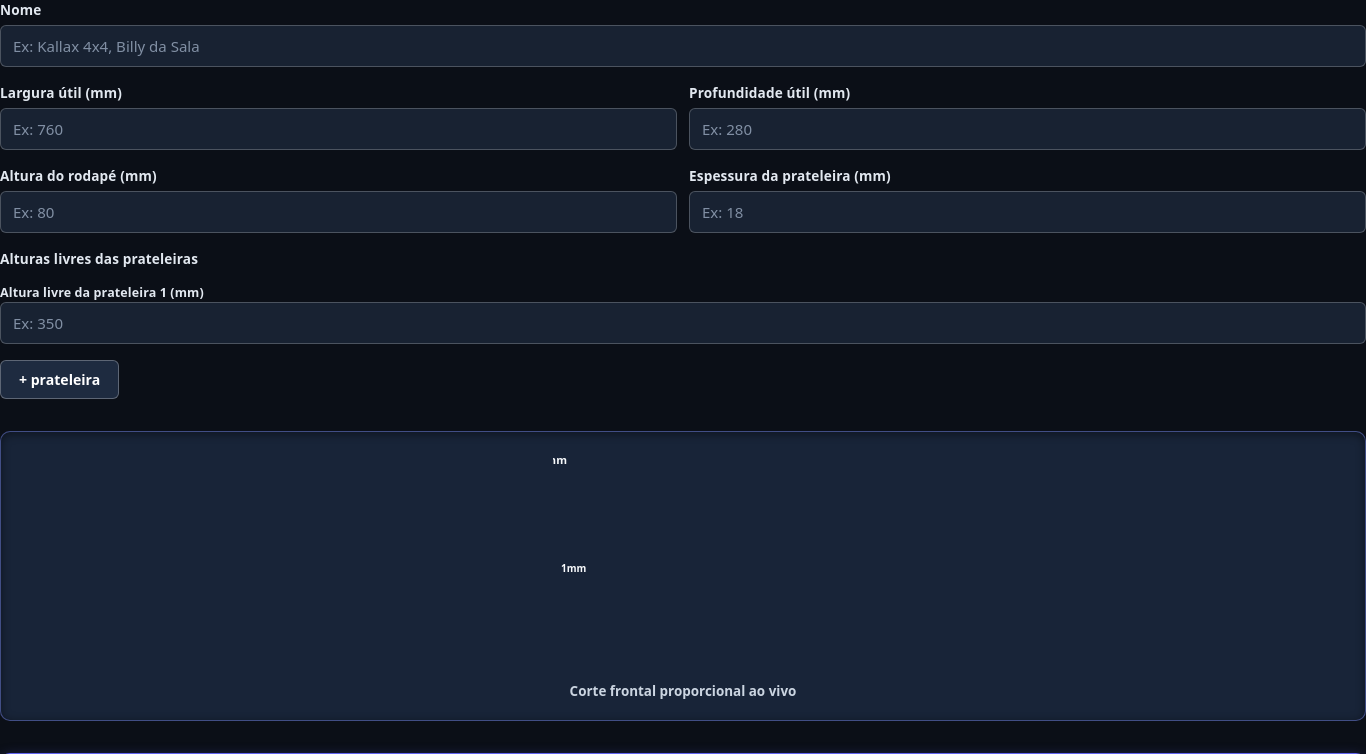
Test case: FormularioDeEstante › remove uma prateleira ao clicar no botao de remover
Click the button "+ prateleira": (60, 380) left=0, top=360, right=119, bottom=399
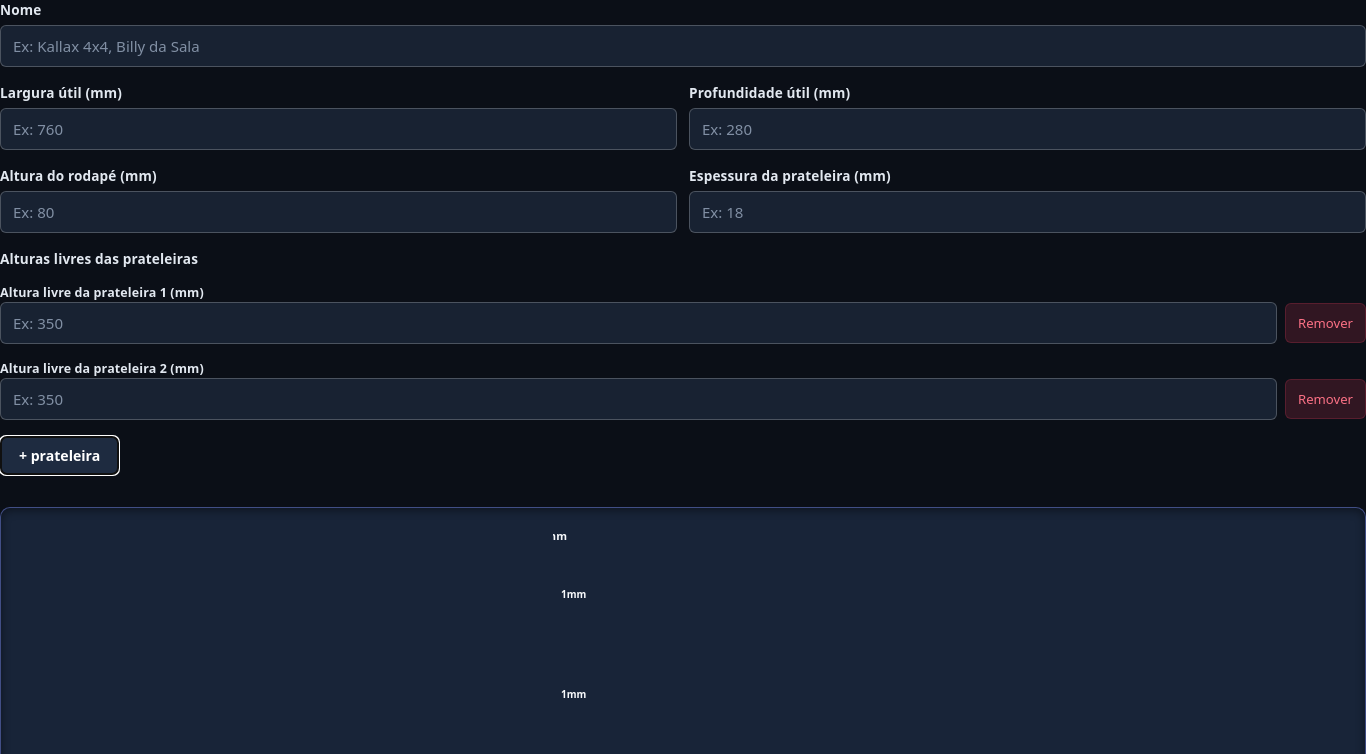
Check: the field labelled "Altura livre da prateleira 2 (mm)" is shown, box left=0, top=378, right=1277, bottom=420
Click the button with aria-label "Remover prateleira 2": (1326, 399) left=1285, top=379, right=1365, bottom=419
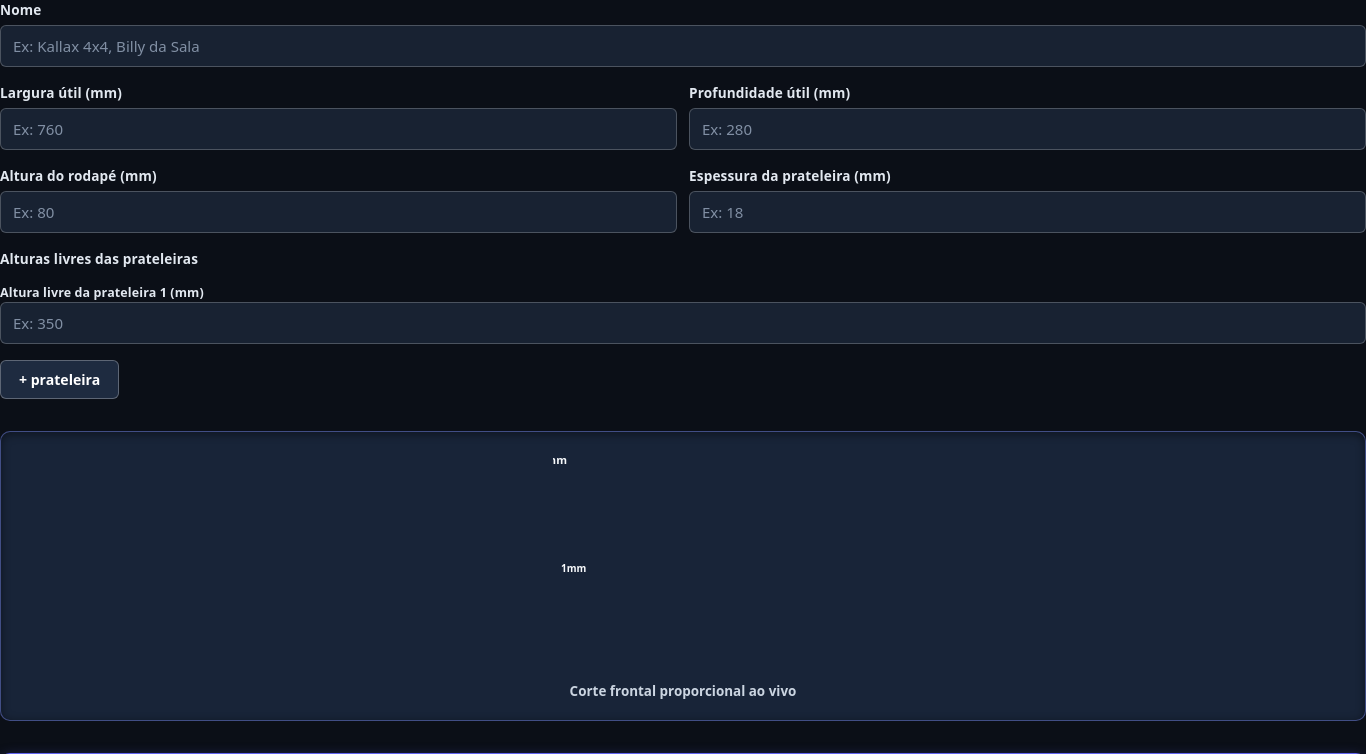
Check: the label labelled "Altura livre da prateleira 2 (mm)" is gone
